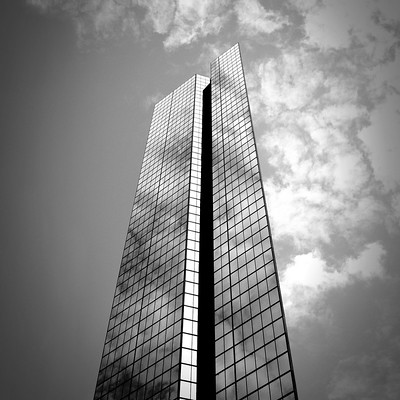medium: (94, 40, 302, 398)
